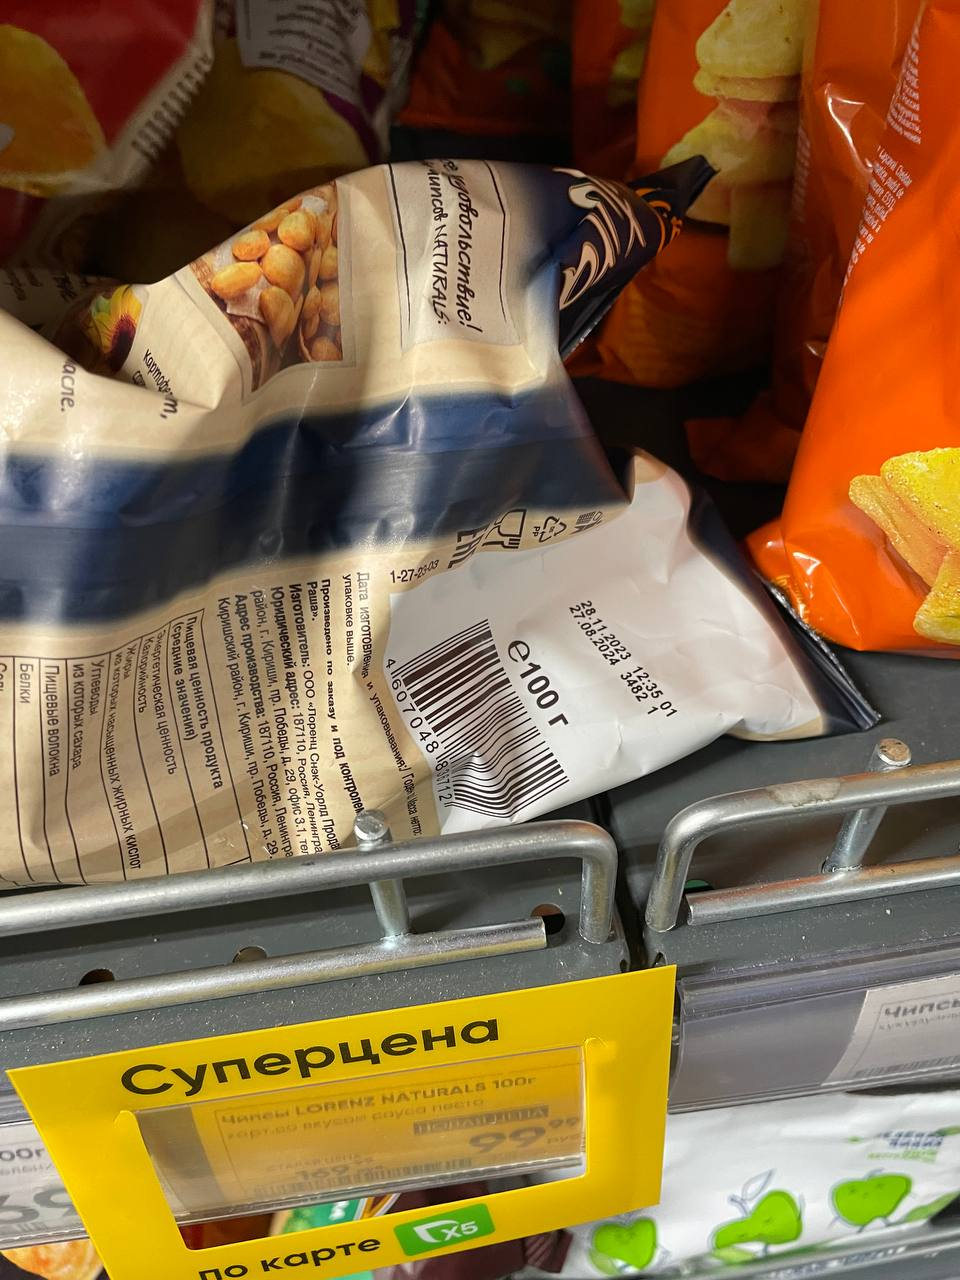1d: (393, 617, 571, 819), (250, 1154, 474, 1200), (852, 1055, 960, 1083), (2, 1217, 52, 1238)
